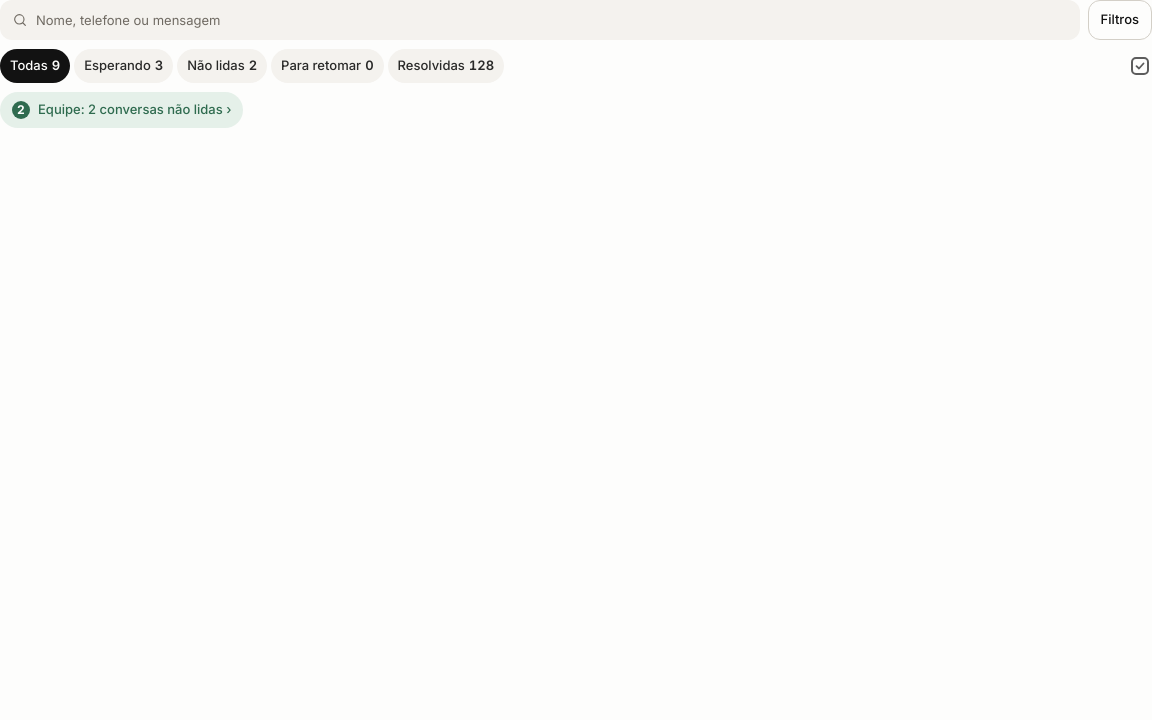
Test: Equipe com mensagem nova acende embaixo das abas e leva à lista da Equipe; Filtros tem Equipe, Fornecedores e Spam
Click the button "Filtros" at [1120, 20], box x1=1088 y1=0 x2=1151 y2=40
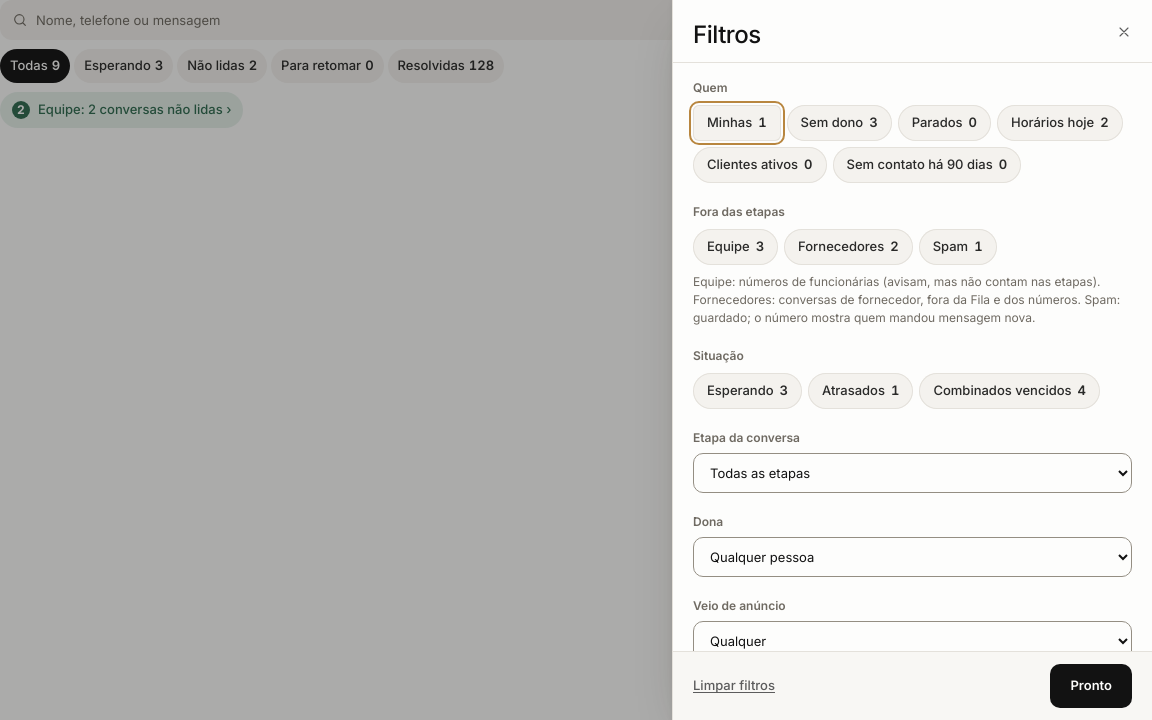
Check: the button "Equipe 3" is shown, box x1=693 y1=229 x2=778 y2=265
Check: the button "Fornecedores 2" is shown, box x1=784 y1=229 x2=913 y2=265
Check: the button "Spam 1" is shown, box x1=919 y1=229 x2=996 y2=265
